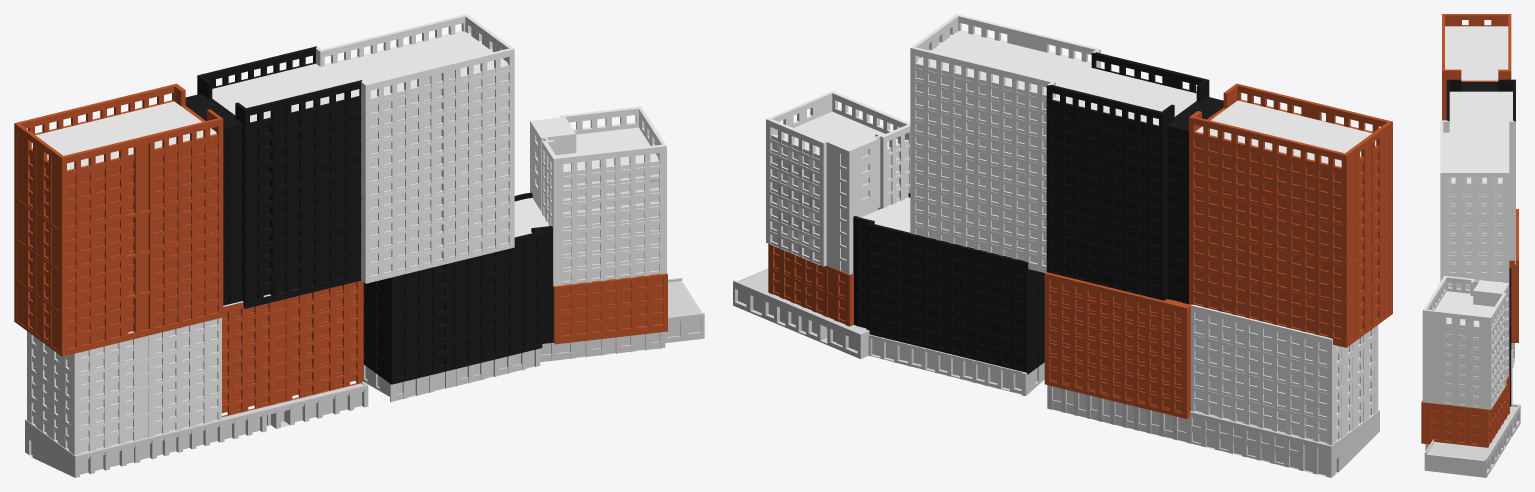
File: novator_5.1_test.glb
3 views of the same model, side by side, from view 1: azimuth 30°, elevation 25°; view 2: azimuth 150°, elevation 25°; view 3: azimuth 270°, elevation 25° (orthographic). The views are drawn at different scales.
Visible parts, largest first — view 1: Plane.001, Plane.002, Plane.003, Plane.005, Cube.002, Plane.006, Plane.004, Plane; view 2: Plane.001, Plane.002, Plane.003, Plane.005, Cube.002, Plane.006, Plane, Plane.004; view 3: Plane.001, Plane.005, Plane.004, Plane.006, Plane.002, Plane.003, Plane.
Boxes of the visible parts, box(x1,y1,x2,y2) form: Plane.001: box(14, 14, 514, 356); Plane.002: box(27, 277, 363, 455); Plane.003: box(363, 192, 553, 384); Plane.005: box(530, 106, 666, 286); Cube.002: box(25, 381, 368, 477); Plane.006: box(363, 277, 704, 402); Plane.004: box(553, 273, 667, 344); Plane: box(185, 93, 242, 305); Plane.001: box(910, 14, 1392, 347); Plane.002: box(1044, 272, 1378, 445); Plane.003: box(853, 193, 1044, 374); Plane.005: box(766, 91, 910, 274); Cube.002: box(1047, 385, 1379, 477); Plane.006: box(733, 268, 1044, 396); Plane: box(1167, 96, 1223, 304); Plane.004: box(768, 244, 853, 326); Plane.001: box(1440, 14, 1515, 289); Plane.005: box(1422, 275, 1509, 409); Plane.004: box(1421, 375, 1509, 447); Plane.006: box(1424, 349, 1520, 477); Plane.002: box(1509, 209, 1518, 342); Plane.003: box(1509, 268, 1511, 406); Plane: box(1461, 81, 1498, 90).
Bounding box in the file's own units: 151 × 73.92 × 27.67.
